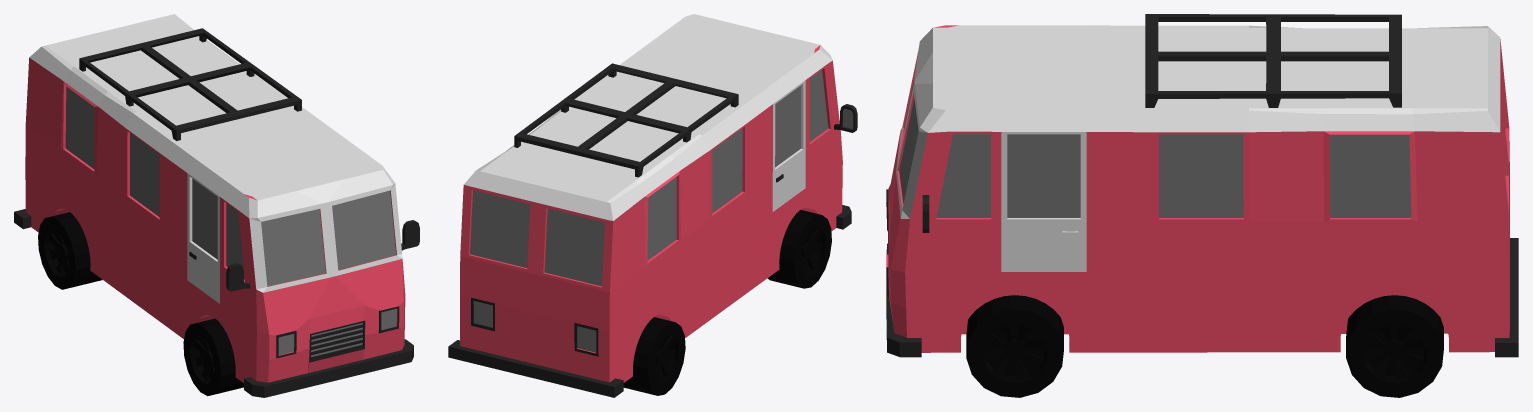
Rendered from campp_Simple_Rig.fbx.
3 views of the same model, side by side, from view 1: azimuth 30°, elevation 25°; view 2: azimuth 150°, elevation 25°; view 3: azimuth 270°, elevation 25° (orthographic). The views are drawn at different scales.
Visible parts, largest first — view 1: Body, Wheel.back.R, Wheel.front.R; view 2: Body, Wheel.back.R, Wheel.front.R; view 3: Body, Wheel.back.L, Wheel.front.L.
Boxes of the visible parts, x1,y1,x2,y2 form: Body: (14,14,419,397); Wheel.back.R: (38,212,102,289); Wheel.front.R: (183,318,243,396); Body: (448,14,857,397); Wheel.back.R: (623,317,685,395); Wheel.front.R: (767,210,831,288); Body: (886,14,1518,357); Wheel.back.L: (1346,295,1443,397); Wheel.front.L: (966,295,1063,397).
Bounding box in the file's own units: 1570 × 1733 × 3442.
